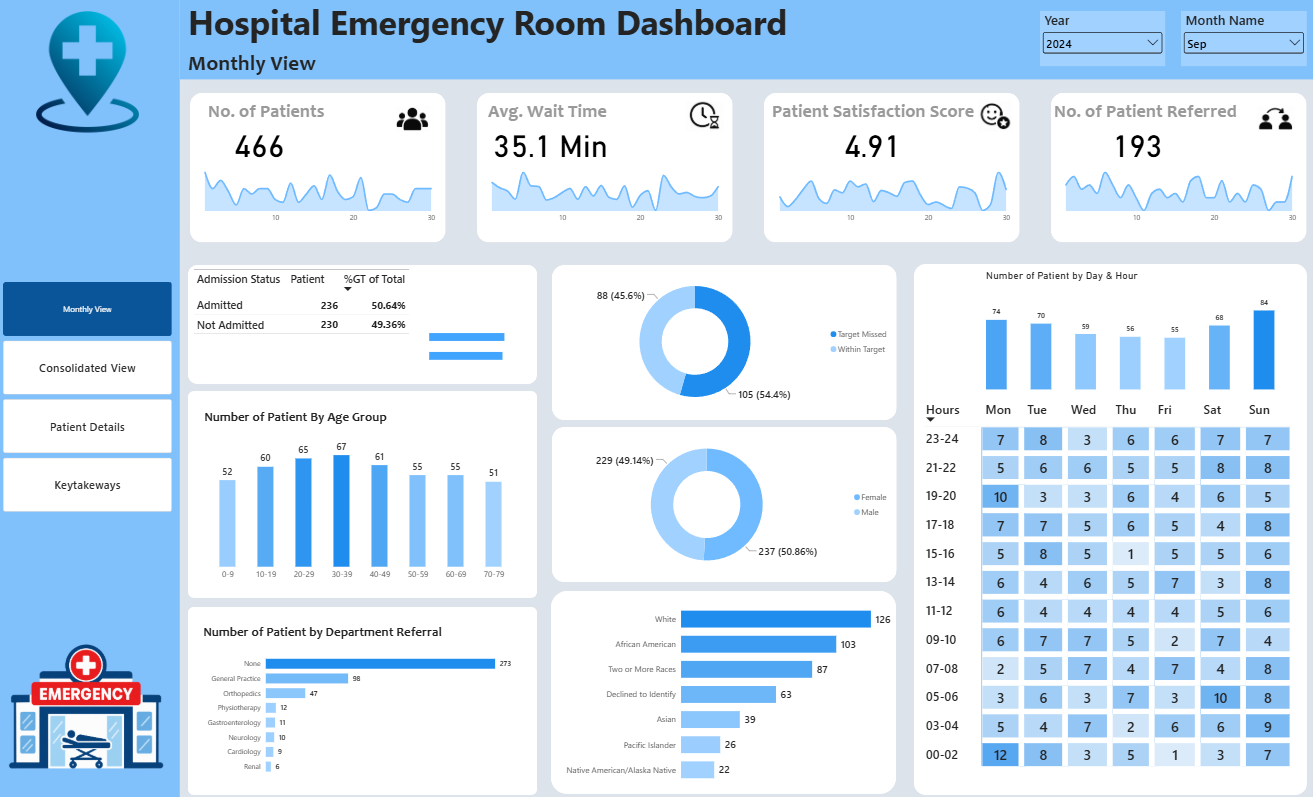

The dashboard page shown, as its layout file describes it:
{"tool":"powerbi","page":{"name":"Monthly View","canvas":[2300,1400],"ordinal":0},"visuals":[{"type":"shape","box":[0,0,320.4,1400],"z":0},{"type":"shape","box":[319.8,0,1980.2,140],"z":1000},{"type":"textbox","box":[333.8,0,1101.1,87.4],"z":2000},{"type":"textbox","box":[334.3,87.1,256,47],"z":3000},{"type":"slicer","fields":{"Values":["Date Table.Year"]},"box":[1817.9,20.9,217.7,95.8],"z":4000},{"type":"slicer","fields":{"Values":["Date Table.Month Name"]},"box":[2063.4,20.9,219.4,95.8],"z":5000},{"type":"shape","box":[337.8,163.7,445,260],"z":6000},{"type":"cardVisual","fields":{"Data":["Hospital ER_Data.Number of Patient"]},"box":[398.8,215.9,134.1,78.4],"z":7000},{"type":"textbox","box":[369.2,175.9,221.1,55.7],"z":8000},{"type":"areaChart","fields":{"Category":["Date Table.Date.Variation.Date Hierarchy.Day"],"Y":["Hospital ER_Data.Number of Patient"]},"box":[337.8,278.6,445.8,130.6],"z":9000},{"type":"shape","box":[837.6,163.7,445,260],"z":10000},{"type":"shape","box":[1337.3,163.7,445,260],"z":11000},{"type":"shape","box":[1837.1,163.7,445,260],"z":12000},{"type":"textbox","box":[856.7,175.9,221.1,55.7],"z":13000},{"type":"cardVisual","fields":{"Data":["Hospital ER_Data.Avg Wait Time"]},"box":[849.8,215.9,235.1,78.4],"z":14000},{"type":"areaChart","fields":{"Category":["Date Table.Date.Variation.Date Hierarchy.Day"],"Y":["Avg(Hospital ER_Data.Patient Waittime)"]},"box":[837.6,278.6,445.8,130.6],"z":15000},{"type":"textbox","box":[1351.2,175.9,419.7,55.7],"z":16000},{"type":"cardVisual","fields":{"Data":["Hospital ER_Data.Satisfaction Score"]},"box":[1460.9,215.9,137.6,78.4],"z":17000},{"type":"areaChart","fields":{"Category":["Date Table.Date.Variation.Date Hierarchy.Day"],"Y":["Hospital ER_Data.Satisfaction Score"]},"box":[1339.1,278.6,445.8,130.6],"z":18000},{"type":"textbox","box":[1842.3,175.9,440.5,55.7],"z":19000},{"type":"cardVisual","fields":{"Data":["Hospital ER_Data.No. of Patient Referred"]},"box":[1927.6,215.9,135.8,78.4],"z":20000},{"type":"areaChart","fields":{"Category":["Date Table.Date.Variation.Date Hierarchy.Day"],"Y":["Hospital ER_Data.No. of Patient Referred"]},"box":[1837.1,278.6,445.8,130.6],"z":21000},{"type":"shape","box":[334.3,463.2,607.7,207.2],"z":22000},{"type":"pivotTable","title":"Patient Admission Status","fields":{"Rows":["Hospital ER_Data.Admission Status"],"Values":["Hospital ER_Data.Number of Patient1","Hospital ER_Data.Number of Patient"]},"box":[344.8,470.1,579.9,193.3],"z":23000},{"type":"barChart","fields":{"Category":["Hospital ER_Data.Admission Status"],"Y":["Hospital ER_Data.Number of Patient"]},"box":[738.3,543.3,198.5,120.1],"z":24000},{"type":"shape","box":[334.3,682.6,607.7,360.4],"z":25000},{"type":"clusteredColumnChart","title":"Number of Patient By Age Group","fields":{"Category":["Hospital ER_Data.Age Group"],"Y":["Hospital ER_Data.Number of Patient"]},"box":[346.5,698.3,578.1,334.3],"z":26000},{"type":"shape","box":[334.3,1058.7,607.7,327.4],"z":27000},{"type":"clusteredBarChart","fields":{"Category":["Hospital ER_Data.Department Referral"],"Y":["Hospital ER_Data.Number of Patient"]},"box":[344.8,1072.6,579.9,299.5],"z":28000},{"type":"shape","box":[968.2,463.2,600,270],"z":29000},{"type":"donutChart","title":"% of Patient Seen Within 30 Min","fields":{"Category":["Hospital ER_Data.Wait Time Status"],"Y":["Hospital ER_Data.No. of Patient Referred"]},"box":[982.1,470.1,578.1,252.5],"z":30000},{"type":"shape","box":[968.2,745.3,600,270],"z":31000},{"type":"donutChart","title":"No. Patient By Gender","fields":{"Category":["Hospital ER_Data.Patient Gender"],"Y":["Hospital ER_Data.Number of Patient"]},"box":[982.1,754,578.1,252.5],"z":32000},{"type":"shape","box":[966.4,1030.8,600.7,353.5],"z":33000},{"type":"clusteredBarChart","fields":{"Category":["Hospital ER_Data.Patient Race"],"Y":["Hospital ER_Data.Number of Patient"]},"box":[976.9,1039.6,583.3,336.1],"z":34000},{"type":"shape","box":[1598.5,461.4,684.3,924.6],"z":35000},{"type":"pivotTable","fields":{"Columns":["Date Table.Day Name"],"Rows":["Hospital ER_Data.Waittime Interval"],"Values":["Hospital ER_Data.Number of Patient"]},"box":[1598.5,680.8,684.3,689.6],"z":36000},{"type":"columnChart","title":"Number of Patient by Day  & Hour","fields":{"Category":["Date Table.Day Name"],"Y":["Hospital ER_Data.Number of Patient"]},"box":[1723.9,470.1,505,210.7],"z":37000},{"type":"image","box":[696.5,186.3,59.2,45.3],"z":38000},{"type":"image","box":[1201.5,177.6,66.2,54],"z":39000},{"type":"image","box":[1710,177.6,60.9,54],"z":40000},{"type":"image","box":[2195.8,181.1,66.2,55.7],"z":41000},{"type":"image","box":[24.4,20.9,269.9,212.4],"z":42000},{"type":"pageNavigator","box":[12.2,492.8,294.3,402.2],"z":43000},{"type":"image","box":[7,1086.6,300,300],"z":43001}]}

Visuals, with their boxes in screenshot pixels (x1, y1, x2, y2), scaled from the page's 2300x1400 canvas onto the 1313x797 screenshot:
shape: rect(0, 0, 183, 796)
shape: rect(183, 0, 1312, 80)
textbox: rect(191, 0, 819, 50)
textbox: rect(191, 50, 337, 76)
slicer - Date Table.Year: rect(1038, 12, 1162, 66)
slicer - Date Table.Month Name: rect(1178, 12, 1303, 66)
shape: rect(193, 93, 447, 241)
cardVisual - Hospital ER_Data.Number of Patient: rect(228, 123, 304, 168)
textbox: rect(211, 100, 337, 132)
areaChart - Date Table.Date.Variation.Date Hierarchy.Day x Hospital ER_Data.Number of Patient: rect(193, 159, 447, 233)
shape: rect(478, 93, 732, 241)
shape: rect(763, 93, 1017, 241)
shape: rect(1049, 93, 1303, 241)
textbox: rect(489, 100, 615, 132)
cardVisual - Hospital ER_Data.Avg Wait Time: rect(485, 123, 619, 168)
areaChart - Date Table.Date.Variation.Date Hierarchy.Day x Avg(Hospital ER_Data.Patient Waittime): rect(478, 159, 733, 233)
textbox: rect(771, 100, 1011, 132)
cardVisual - Hospital ER_Data.Satisfaction Score: rect(834, 123, 913, 168)
areaChart - Date Table.Date.Variation.Date Hierarchy.Day x Hospital ER_Data.Satisfaction Score: rect(764, 159, 1019, 233)
textbox: rect(1052, 100, 1303, 132)
cardVisual - Hospital ER_Data.No. of Patient Referred: rect(1100, 123, 1178, 168)
areaChart - Date Table.Date.Variation.Date Hierarchy.Day x Hospital ER_Data.No. of Patient Referred: rect(1049, 159, 1303, 233)
shape: rect(191, 264, 538, 382)
"Patient Admission Status" pivotTable: rect(197, 268, 528, 378)
barChart - Hospital ER_Data.Admission Status x Hospital ER_Data.Number of Patient: rect(421, 309, 535, 378)
shape: rect(191, 389, 538, 594)
"Number of Patient By Age Group" clusteredColumnChart: rect(198, 398, 528, 588)
shape: rect(191, 603, 538, 789)
clusteredBarChart - Hospital ER_Data.Department Referral x Hospital ER_Data.Number of Patient: rect(197, 611, 528, 781)
shape: rect(553, 264, 895, 417)
"% of Patient Seen Within 30 Min" donutChart: rect(561, 268, 891, 411)
shape: rect(553, 424, 895, 578)
"No. Patient By Gender" donutChart: rect(561, 429, 891, 573)
shape: rect(552, 587, 895, 788)
clusteredBarChart - Hospital ER_Data.Patient Race x Hospital ER_Data.Number of Patient: rect(558, 592, 891, 783)
shape: rect(913, 263, 1303, 789)
pivotTable - Date Table.Day Name x Hospital ER_Data.Waittime Interval: rect(913, 388, 1303, 780)
"Number of Patient by Day  & Hour" columnChart: rect(984, 268, 1272, 388)
image: rect(398, 106, 431, 132)
image: rect(686, 101, 724, 132)
image: rect(976, 101, 1011, 132)
image: rect(1254, 103, 1291, 135)
image: rect(14, 12, 168, 133)
pageNavigator: rect(7, 281, 175, 510)
image: rect(4, 619, 175, 789)
